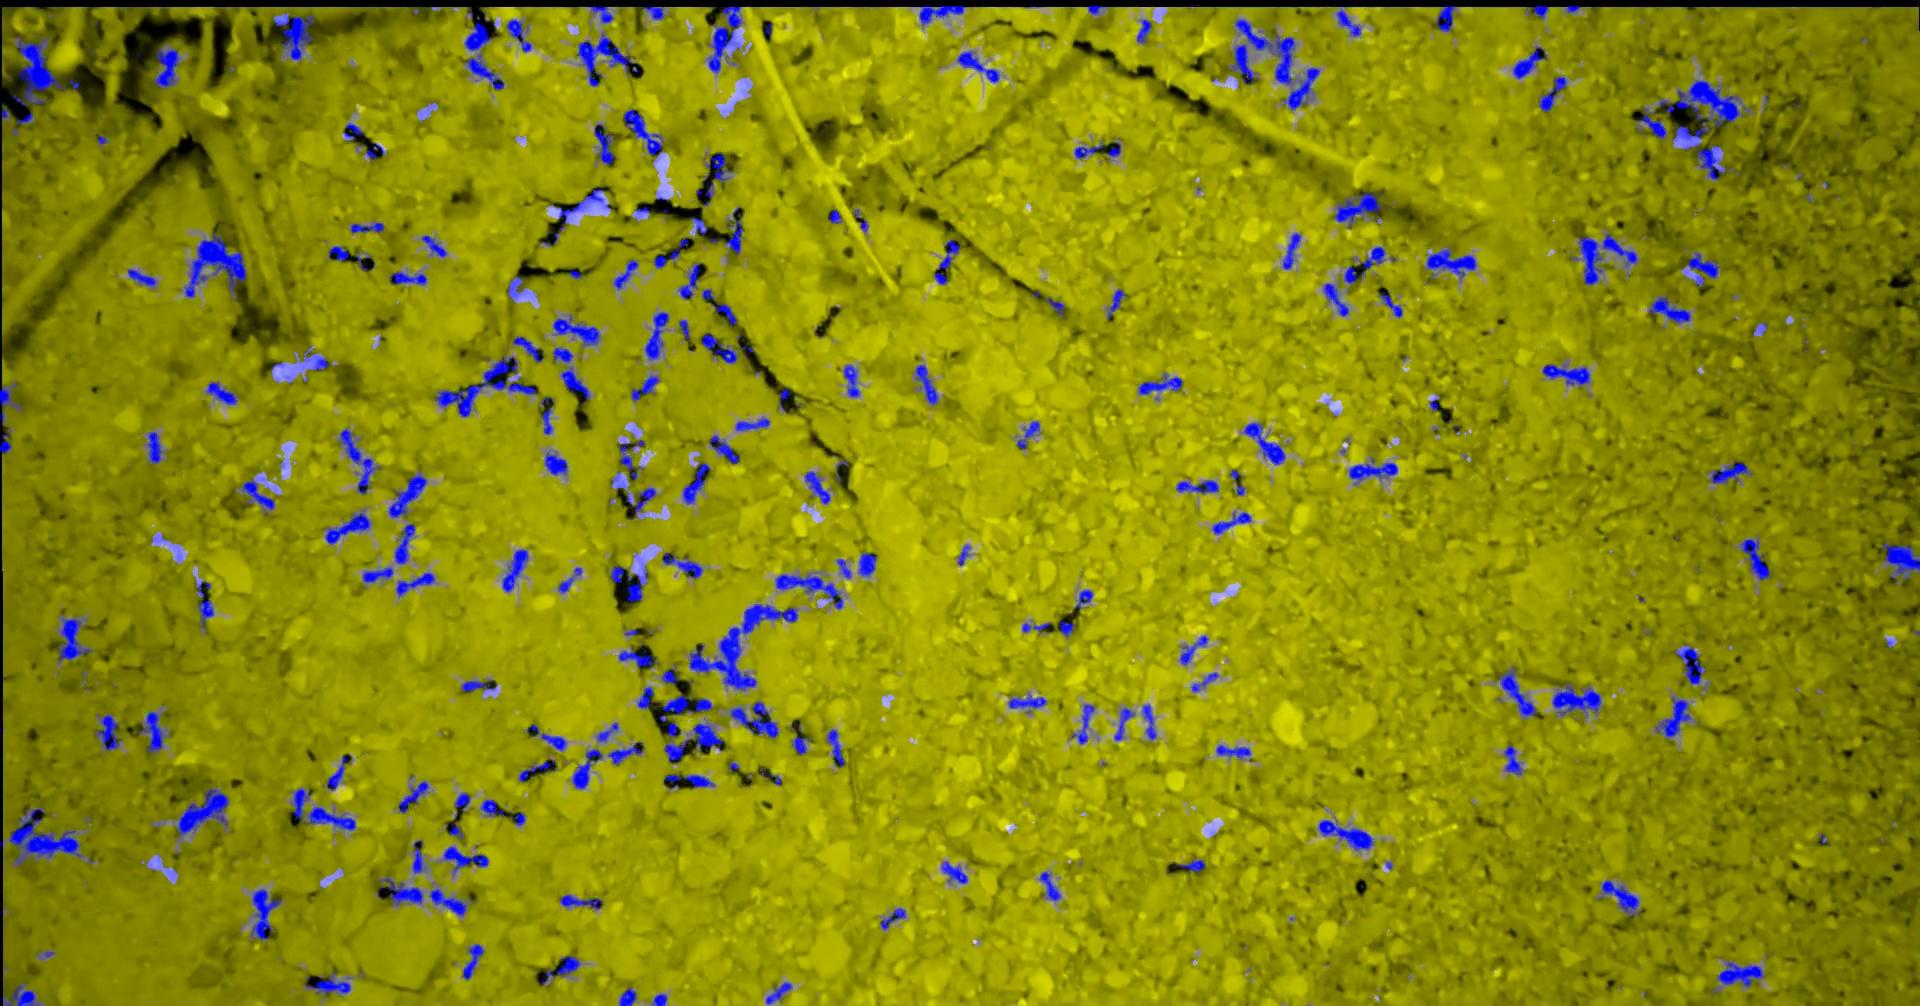ant: (577, 30, 637, 86), (463, 6, 503, 89), (663, 716, 723, 763), (292, 788, 356, 829), (338, 428, 378, 493), (775, 573, 842, 608), (707, 4, 742, 72), (550, 188, 603, 230), (552, 347, 589, 403), (1496, 667, 1537, 716), (272, 11, 312, 58), (622, 109, 663, 155), (1683, 144, 1733, 179), (1333, 191, 1382, 227), (730, 701, 778, 738), (1243, 422, 1285, 464), (57, 614, 91, 664), (389, 473, 425, 517), (1318, 819, 1371, 850), (701, 333, 753, 363), (1550, 683, 1600, 715), (324, 509, 370, 544), (250, 888, 281, 939), (1426, 248, 1476, 278), (1343, 246, 1384, 283), (1655, 696, 1691, 737), (658, 694, 711, 721), (1879, 542, 1919, 579), (1597, 880, 1638, 916), (552, 315, 599, 345), (610, 565, 648, 601), (957, 51, 999, 83), (443, 845, 488, 874), (378, 875, 423, 904), (1738, 539, 1770, 579), (1349, 457, 1397, 484), (933, 239, 960, 285), (1675, 644, 1705, 683), (1716, 962, 1763, 987), (682, 462, 710, 504), (644, 311, 668, 359), (571, 749, 602, 788), (152, 44, 179, 88), (540, 955, 579, 984), (1648, 295, 1689, 323), (1688, 251, 1719, 287), (137, 711, 164, 753), (240, 479, 274, 511), (1229, 43, 1256, 84), (0, 978, 41, 1005), (916, 4, 965, 25), (502, 549, 527, 591), (428, 888, 466, 916), (1512, 46, 1545, 77), (305, 970, 350, 993), (1542, 363, 1590, 385), (618, 439, 644, 480), (662, 553, 702, 578), (526, 724, 566, 749), (1636, 105, 1666, 138), (1538, 75, 1566, 111), (1070, 704, 1095, 744), (94, 713, 119, 751), (397, 780, 428, 812), (914, 365, 938, 404), (1137, 373, 1182, 394), (625, 486, 655, 517), (396, 572, 434, 596), (326, 754, 352, 790), (1211, 511, 1251, 533), (724, 207, 743, 254), (518, 758, 556, 781), (709, 434, 738, 464), (1178, 635, 1208, 664), (1710, 461, 1750, 483), (394, 523, 415, 563), (1323, 283, 1349, 316), (196, 580, 213, 627), (594, 123, 615, 164), (618, 647, 657, 668), (607, 741, 643, 763), (505, 19, 531, 51), (512, 337, 543, 362), (804, 471, 829, 503), (630, 375, 659, 401), (1335, 5, 1360, 36), (664, 774, 714, 789), (462, 942, 483, 979), (613, 259, 637, 290), (678, 263, 698, 298), (1112, 708, 1134, 741), (705, 152, 730, 180), (825, 729, 844, 766), (206, 381, 236, 404), (1008, 695, 1046, 713), (1378, 290, 1402, 318), (1283, 232, 1300, 269), (543, 448, 568, 475), (764, 981, 791, 1005), (1016, 420, 1039, 448), (1039, 871, 1060, 901), (557, 567, 582, 592), (1215, 744, 1252, 761), (1175, 479, 1218, 493), (559, 894, 602, 908), (791, 724, 810, 754), (1503, 744, 1523, 775), (0, 382, 22, 409), (941, 861, 968, 883), (1074, 138, 1103, 158), (127, 268, 156, 287), (712, 302, 737, 325), (880, 907, 905, 929), (1435, 4, 1455, 30), (653, 248, 679, 268), (422, 235, 446, 257), (1107, 290, 1125, 319), (389, 271, 425, 285), (843, 365, 858, 398), (146, 431, 161, 464), (1142, 704, 1156, 739), (11, 112, 33, 135), (1191, 672, 1217, 691), (735, 417, 770, 431), (362, 567, 392, 582), (596, 721, 618, 741), (695, 180, 712, 205), (634, 5, 664, 19), (1175, 859, 1205, 873), (453, 793, 470, 818), (480, 799, 505, 815), (411, 840, 424, 873), (590, 5, 613, 23), (505, 276, 523, 298), (858, 553, 876, 575), (461, 680, 497, 691), (356, 250, 375, 271), (1045, 297, 1064, 318), (342, 122, 363, 140), (662, 666, 681, 685), (540, 406, 552, 434), (1074, 589, 1092, 608), (1137, 19, 1150, 43), (350, 222, 383, 232), (637, 686, 653, 708), (1525, 4, 1548, 18), (0, 426, 11, 453), (690, 216, 707, 234), (618, 987, 636, 1005), (444, 822, 463, 838), (328, 245, 348, 260), (836, 558, 851, 578), (1058, 620, 1074, 636), (364, 144, 383, 158), (1021, 622, 1049, 631), (778, 387, 789, 412), (678, 319, 690, 339), (957, 545, 969, 565), (311, 356, 328, 370), (1106, 141, 1120, 156), (512, 810, 524, 826), (1087, 4, 1105, 14), (828, 210, 841, 224), (651, 993, 667, 1005), (701, 290, 714, 301)
